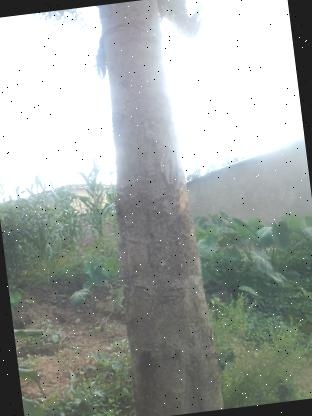tree: (81, 0, 234, 416)
